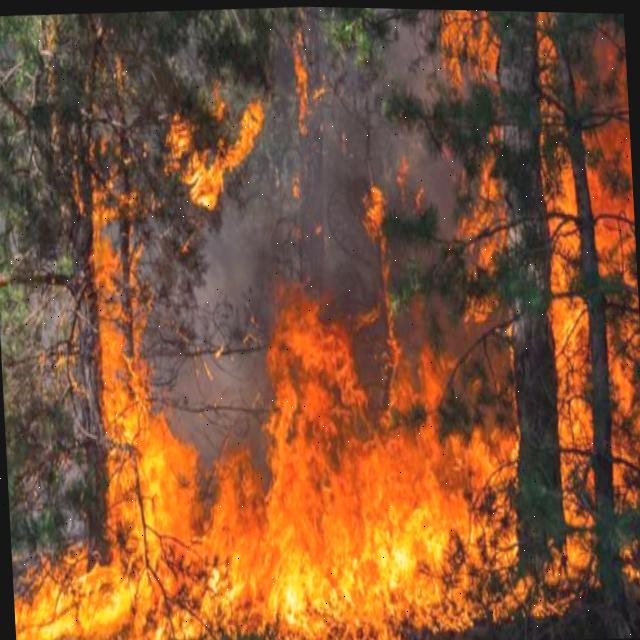fire: (13, 156, 640, 640), (164, 92, 267, 218), (454, 146, 508, 321), (431, 8, 501, 89)
smoke: (143, 24, 461, 462)
